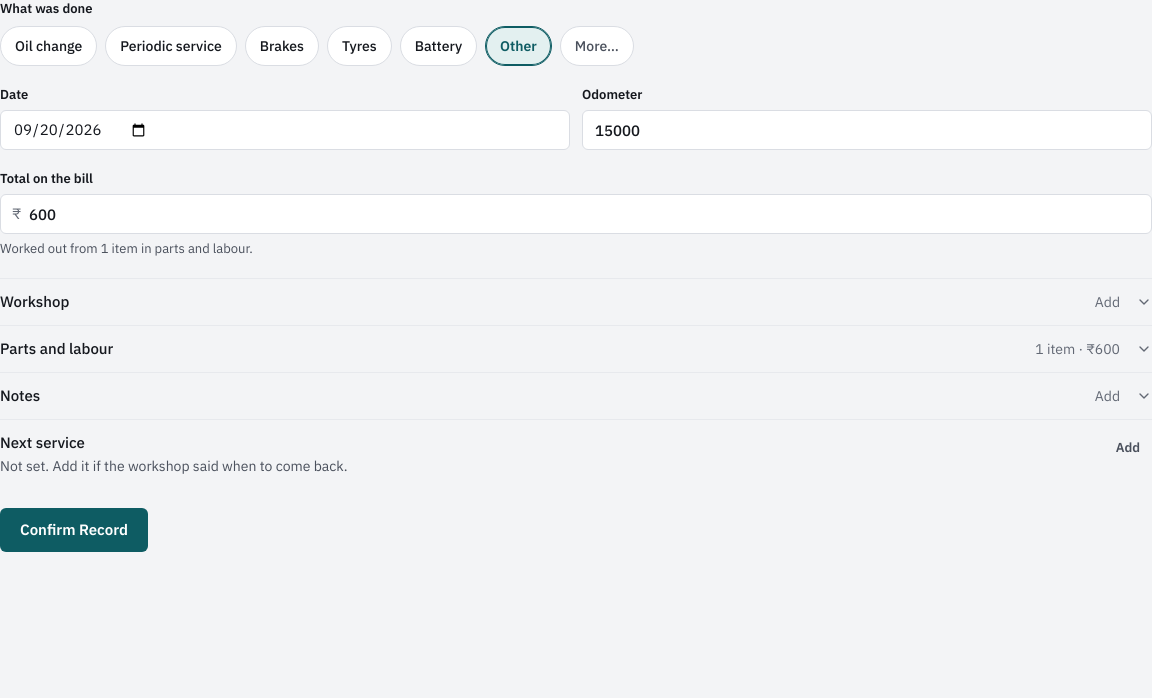
Scenario: MaintenanceForm › says what is wrong rather than saving a line item with no name
Click the button "Confirm Record".
click(74, 530)  # box [0,508,148,552]
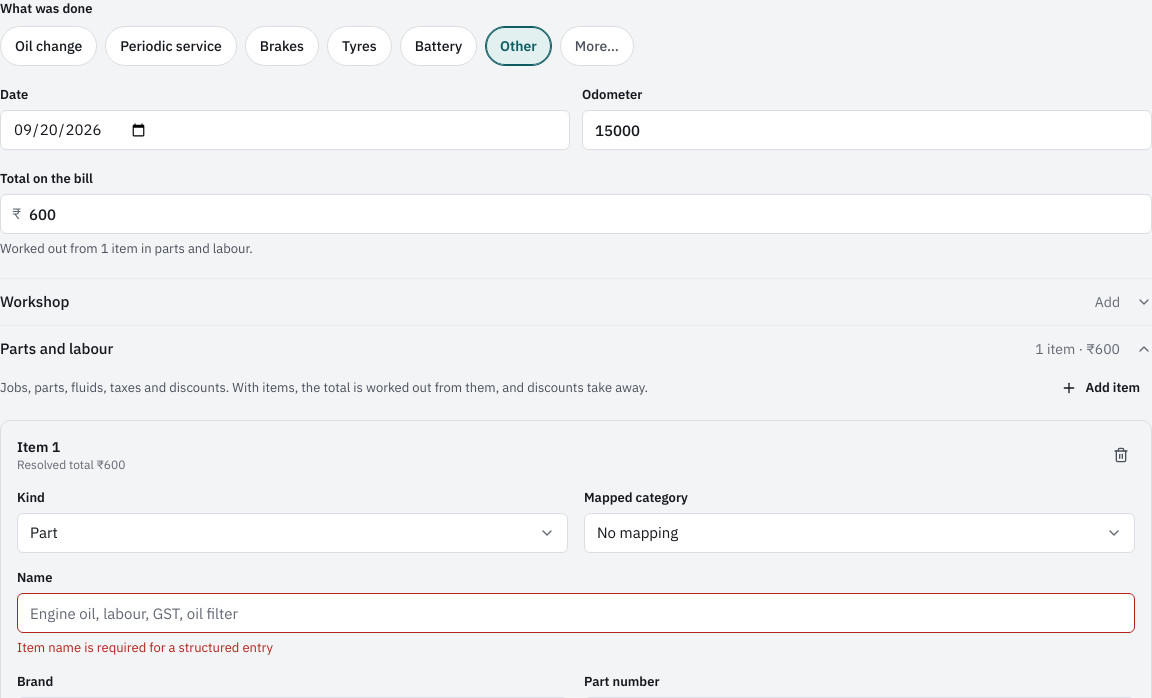
Now the text "Item name is required for a structured entry" is shown, box [17,639,273,656]
